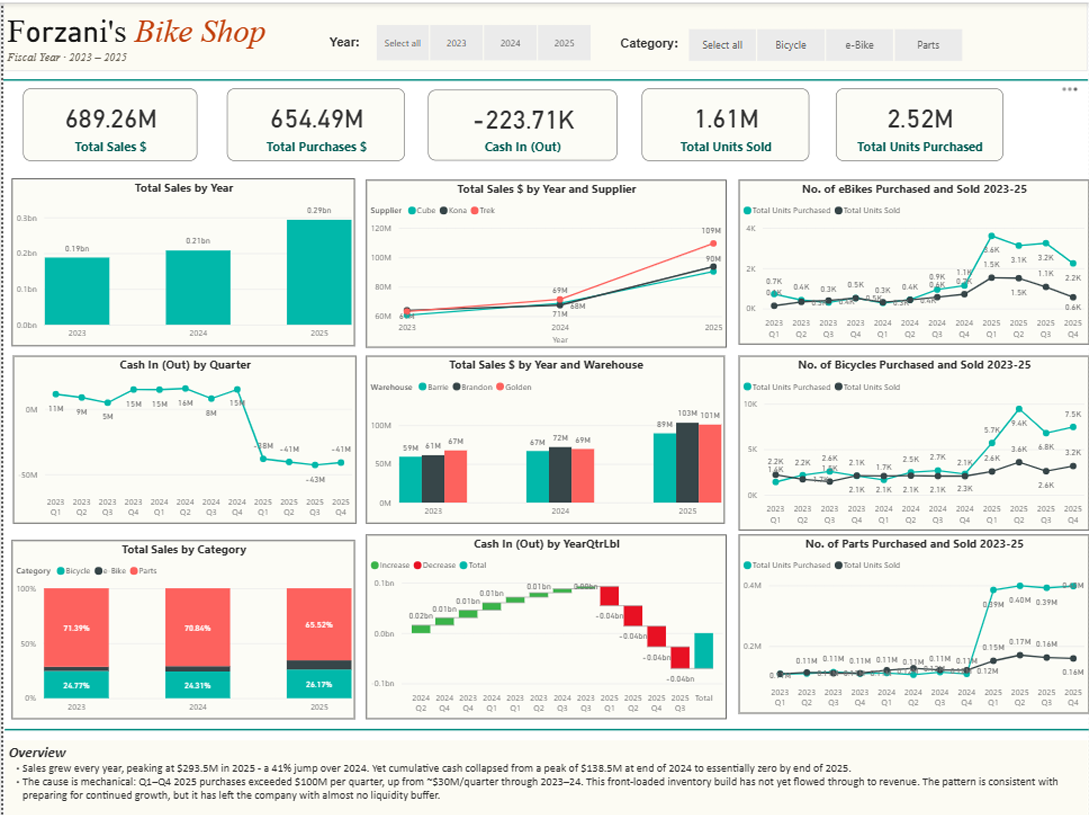

Layout of this report page (visuals, bound fields, positions):
{"tool":"powerbi","page":{"name":"Dashboard","canvas":[1400,1050],"ordinal":0},"visuals":[{"type":"shape","box":[0,0,1399.5,89.2],"z":0},{"type":"card","fields":{"Values":["Table.Total Sales $"]},"box":[25.9,110.6,224.6,93.3],"z":1000},{"type":"card","fields":{"Values":["Table.Total Purchases $"]},"box":[288.5,110.6,229.8,93.3],"z":2000},{"type":"card","fields":{"Values":["Table.Cash In (Out)"]},"box":[547.7,112.3,243.6,91.6],"z":3000},{"type":"card","fields":{"Values":["Table.Total Units Sold"]},"box":[824.1,110.6,216,93.3],"z":4000},{"type":"slicer","fields":{"Values":["Calendar.Year"]},"box":[455,22.5,326.2,60],"z":5000},{"type":"textbox","box":[0,7.5,382.5,86.2],"z":6000},{"type":"shape","box":[0,93.9,1399.5,11],"z":7000},{"type":"slicer","fields":{"Values":["Inventory List.Category"]},"box":[858.8,27.5,402.5,55],"z":8000},{"type":"textbox","box":[415,36.2,78.8,31.2],"z":9000},{"type":"textbox","box":[791.2,38.8,107.5,43.8],"z":10000},{"type":"columnChart","title":"Total Sales by Year","fields":{"Y":["Table.Total Sales $"],"Category":["Calendar.Date.Variation.Date Hierarchy.Year"]},"box":[10.9,226.8,442.6,215.9],"z":11000},{"type":"lineChart","title":"Cash In (Out) by Quarter","fields":{"Category":["Calendar.YearQtrLbl"],"Y":["Table.Cash In (Out)"]},"box":[12.7,455.3,442.6,215.9],"z":12000},{"type":"hundredPercentStackedColumnChart","title":"Total Sales by Category","fields":{"Category":["Calendar.Date.Variation.Date Hierarchy.Year"],"Y":["Table.Total Sales $"],"Series":["Inventory List.Category"]},"box":[10.9,693,442.6,230.4],"z":13000},{"type":"clusteredColumnChart","fields":{"Category":["Calendar.Date.Variation.Date Hierarchy.Year"],"Y":["Table.Total Sales $"],"Series":["SalesInv.Warehouse"]},"box":[468,455.3,462.6,215.9],"z":14000},{"type":"textbox","box":[1.8,950.6,1398.7,99.8],"z":15000},{"type":"shape","box":[1.8,923.4,1398.7,27.2],"z":16000},{"type":"lineChart","fields":{"Y":["Table.Total Sales $"],"Category":["Calendar.Date.Variation.Date Hierarchy.Year"],"Series":["Suppliers.Supplier"]},"box":[468,228.6,464.4,215.9],"z":17000},{"type":"waterfallChart","fields":{"Y":["Table.Cash In (Out)"],"Category":["Calendar.YearQtrLbl"]},"box":[468,685.7,464.4,237.6],"z":18000},{"type":"card","fields":{"Values":["Table.Total Units Purchased"]},"box":[1074.6,110.6,216,93.3],"z":19000},{"type":"lineChart","title":"No. of Bicycles Purchased and Sold 2023-25","fields":{"Category":["Calendar.YearQtrLbl"],"Y":["Table.Total Units Purchased","Table.Total Units Sold"]},"box":[948.8,455.3,451.7,224.9],"z":20000},{"type":"lineChart","title":"No. of eBikes Purchased and Sold 2023-25","fields":{"Category":["Calendar.YearQtrLbl"],"Y":["Table.Total Units Purchased","Table.Total Units Sold"]},"box":[948.8,228.6,451.7,212.3],"z":21000},{"type":"lineChart","title":"No. of Parts Purchased and Sold 2023-25","fields":{"Category":["Calendar.YearQtrLbl"],"Y":["Table.Total Units Purchased","Table.Total Units Sold"]},"box":[948.8,685.7,451.7,230.4],"z":22000}]}

Visuals, with their boxes in screenshot pixels (x1, y1, x2, y2), scaled from the page's 1400x1050 canvas onto the 1089x815 screenshot:
shape: <box>0,0,1088,69</box>
card - Table.Total Sales $: <box>20,86,195,158</box>
card - Table.Total Purchases $: <box>224,86,403,158</box>
card - Table.Cash In (Out): <box>426,87,616,158</box>
card - Table.Total Units Sold: <box>641,86,809,158</box>
slicer - Calendar.Year: <box>354,17,608,64</box>
textbox: <box>0,6,298,73</box>
shape: <box>0,73,1088,81</box>
slicer - Inventory List.Category: <box>668,21,981,64</box>
textbox: <box>323,28,384,52</box>
textbox: <box>615,30,699,64</box>
"Total Sales by Year" columnChart: <box>8,176,353,344</box>
"Cash In (Out) by Quarter" lineChart: <box>10,353,354,521</box>
"Total Sales by Category" hundredPercentStackedColumnChart: <box>8,538,353,717</box>
clusteredColumnChart - Calendar.Date.Variation.Date Hierarchy.Year x Table.Total Sales $: <box>364,353,724,521</box>
textbox: <box>1,738,1088,814</box>
shape: <box>1,717,1088,738</box>
lineChart - Table.Total Sales $ x Calendar.Date.Variation.Date Hierarchy.Year: <box>364,177,725,345</box>
waterfallChart - Table.Cash In (Out) x Calendar.YearQtrLbl: <box>364,532,725,717</box>
card - Table.Total Units Purchased: <box>836,86,1004,158</box>
"No. of Bicycles Purchased and Sold 2023-25" lineChart: <box>738,353,1088,528</box>
"No. of eBikes Purchased and Sold 2023-25" lineChart: <box>738,177,1088,342</box>
"No. of Parts Purchased and Sold 2023-25" lineChart: <box>738,532,1088,711</box>
